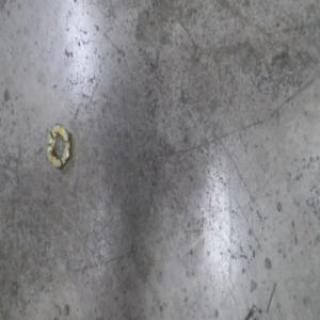Nuttrack_idkeyframe: (42, 119, 72, 170)
